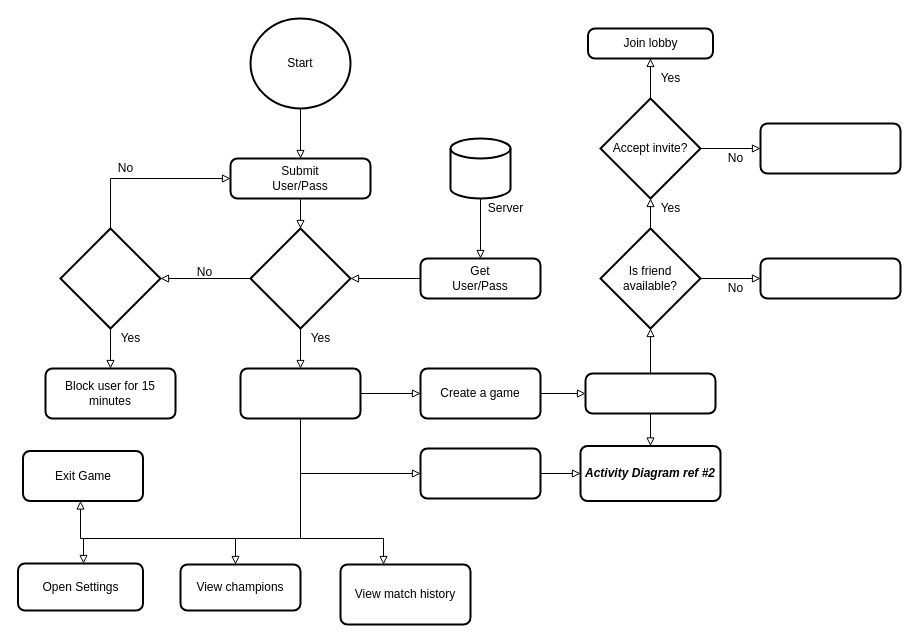
Some shapes in this 919 by 642 pixel diagram are drawn without their labels. The shapes that lost their labels are listed below. From the top down, each one's centre as x and y in pixels, then its label:
[830,148]: Send decline invite message
[110,278]: More than 5 attempts?
[300,278]: User/pass is correct?
[830,278]: Send non available message
[300,393]: Open Main Menu
[650,393]: Invite Friend(s)
[480,473]: Search for a game
